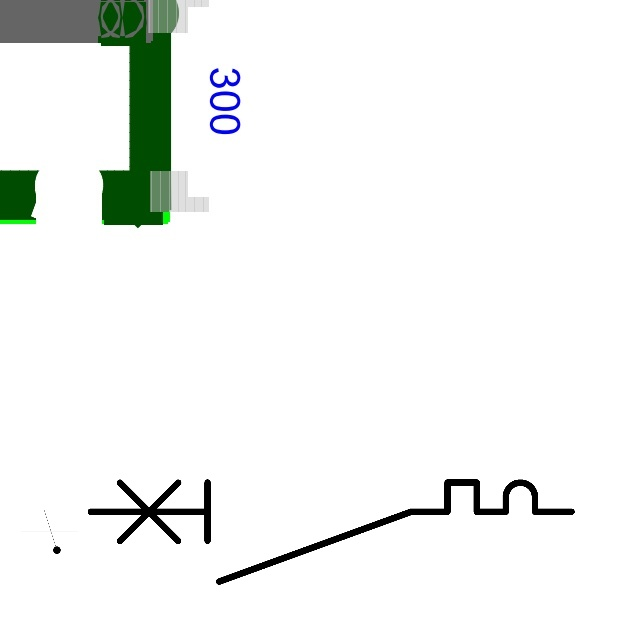interruptor_termomagnetico: (78, 470, 583, 593)
